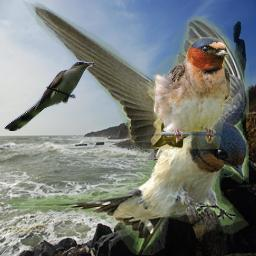Cuckoo: (4, 60, 94, 131)
Swallow: (9, 0, 249, 255), (151, 37, 233, 149)
